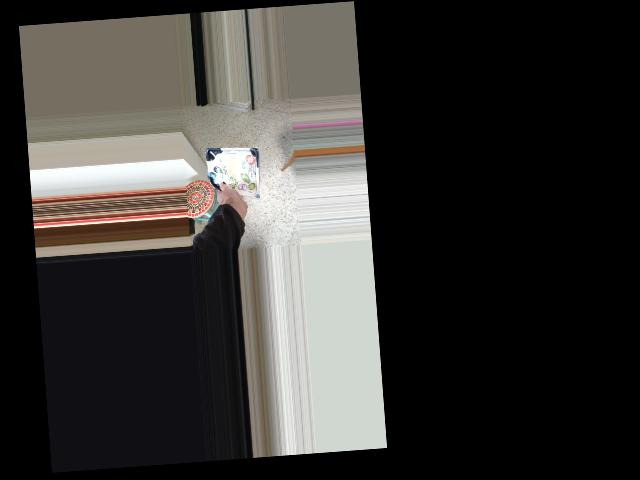cheese: (199, 146, 270, 218)
